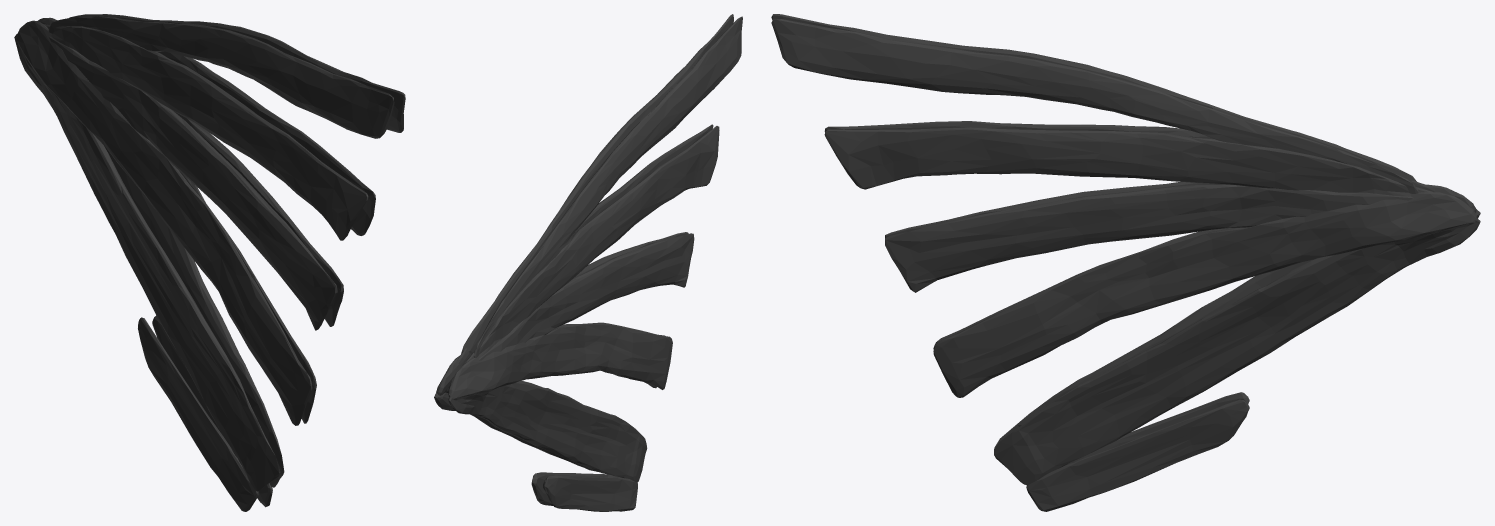
File: lig_nuchal_lamellar.glb
3 views of the same model, side by side, from view 1: azimuth 30°, elevation 25°; view 2: azimuth 150°, elevation 25°; view 3: azimuth 270°, elevation 25° (orthographic). The views are drawn at different scales.
Visible parts, largest first — view 1: lig_nuchal_lamellar; view 2: lig_nuchal_lamellar; view 3: lig_nuchal_lamellar.
Boxes of the visible parts, x1,y1,x2,y2 form: lig_nuchal_lamellar: [14, 14, 405, 511]; lig_nuchal_lamellar: [434, 14, 742, 511]; lig_nuchal_lamellar: [771, 14, 1480, 511].
Size of the model in its own units: 0.000493 by 0.0055 by 0.00721.
1 material, 1 textured.
